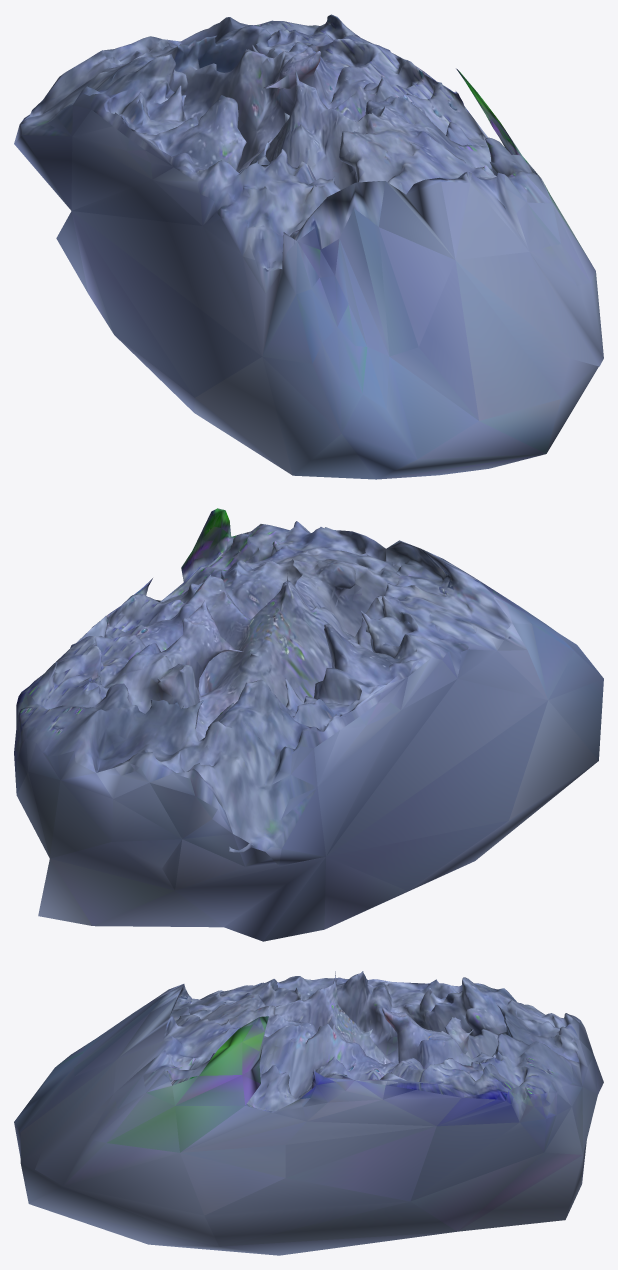
Rendered from cell_envrion1_test_textured3.glb.
3 renders of one model, top to bottom at view 1: azimuth 30°, elevation 25°; view 2: azimuth 150°, elevation 25°; view 3: azimuth 270°, elevation 25°, orthographic. The views are drawn at different scales.
Visible parts, largest first — view 1: Mesh_0.003; view 2: Mesh_0.003; view 3: Mesh_0.003.
Boxes of the visible parts, x1,y1,x2,y2 form: Mesh_0.003: [14, 14, 603, 479]; Mesh_0.003: [14, 508, 603, 941]; Mesh_0.003: [14, 971, 603, 1255].
Bounding box in the file's own units: 6.4 × 5.37 × 12.3.
1 material, 1 textured.
